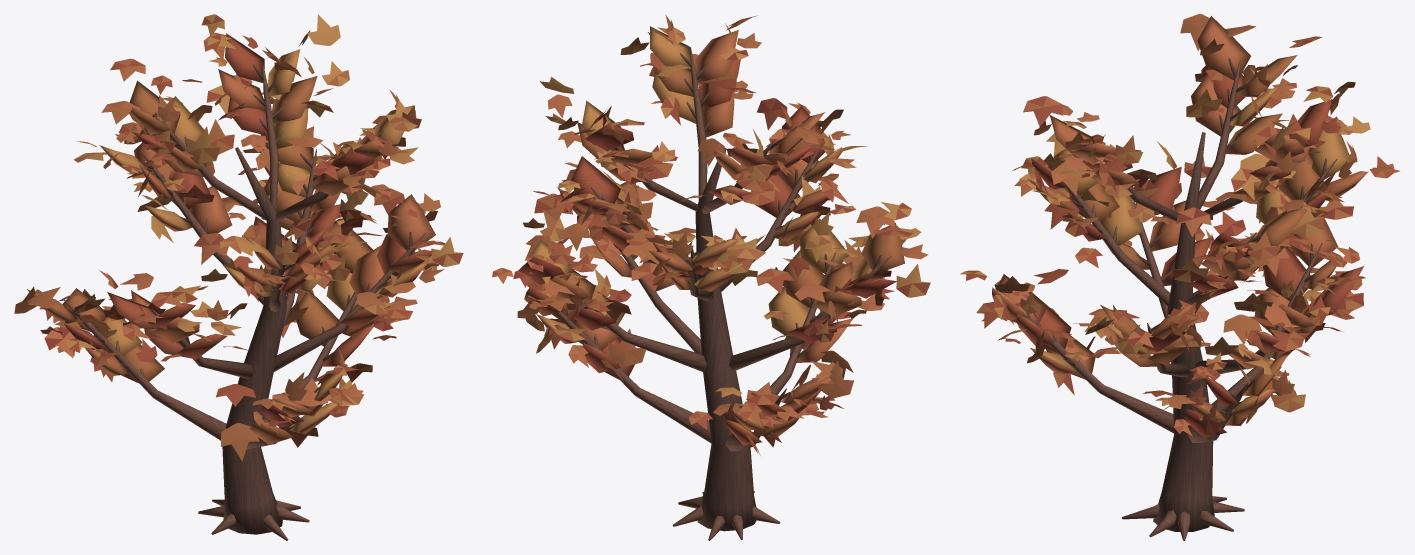
The model's file is maple-lod.glb.
3 views of the same model, side by side, from view 1: azimuth 30°, elevation 25°; view 2: azimuth 150°, elevation 25°; view 3: azimuth 270°, elevation 25° (orthographic). The views are drawn at different scales.
Parts seen in each view (by area): view 1: Palmatifid maple and mottled red-orange crown.001, Flared maple trunk, exposed roots and fine palmate branches.; view 2: Palmatifid maple and mottled red-orange crown.001, Flared maple trunk, exposed roots and fine palmate branches.; view 3: Palmatifid maple and mottled red-orange crown.001, Flared maple trunk, exposed roots and fine palmate branches..
Boxes of the visible parts, x1=… form: Palmatifid maple and mottled red-orange crown.001: x1=14, y1=14, x2=463, y2=461; Flared maple trunk, exposed roots and fine palmate branches.: x1=27, y1=33, x2=427, y2=540; Palmatifid maple and mottled red-orange crown.001: x1=492, y1=14, x2=930, y2=455; Flared maple trunk, exposed roots and fine palmate branches.: x1=536, y1=26, x2=895, y2=540; Palmatifid maple and mottled red-orange crown.001: x1=960, y1=14, x2=1399, y2=437; Flared maple trunk, exposed roots and fine palmate branches.: x1=992, y1=16, x2=1368, y2=540.
Bounding box in the file's own units: 6.54 × 7.3 × 6.38.
2 materials, 1 textured.
